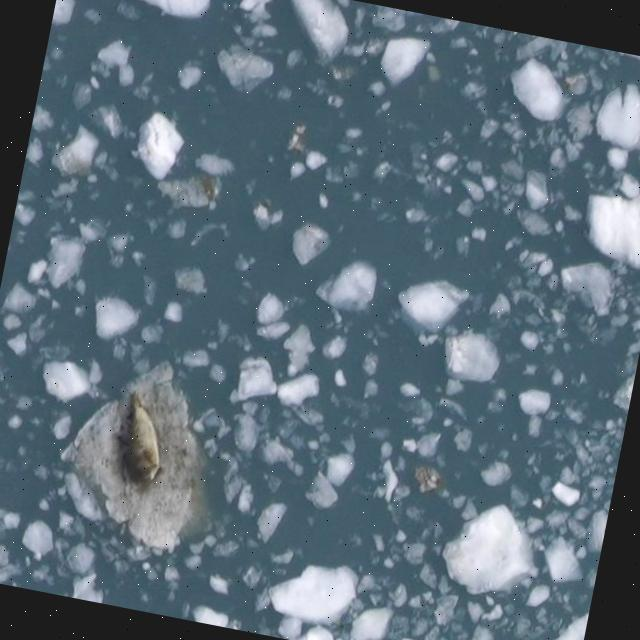seal: (121, 391, 162, 490)
